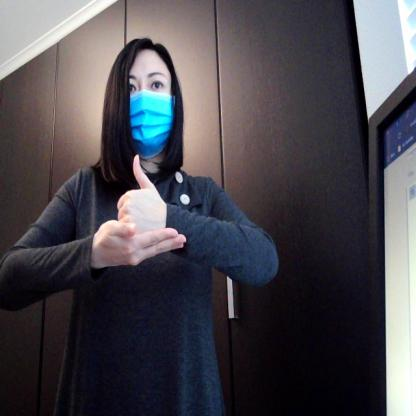help: (88, 152, 192, 279)
